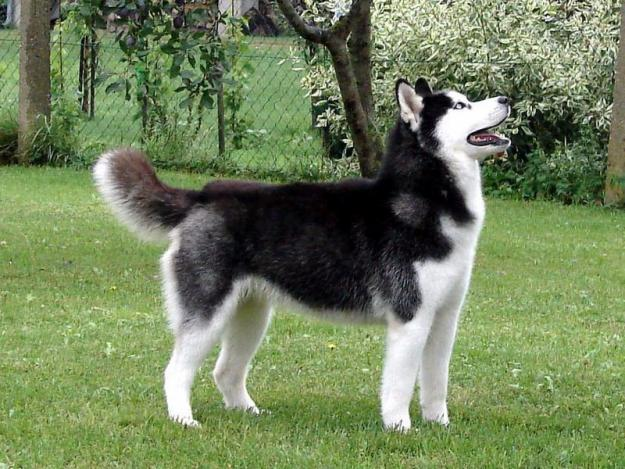husky: (128, 60, 535, 429)
